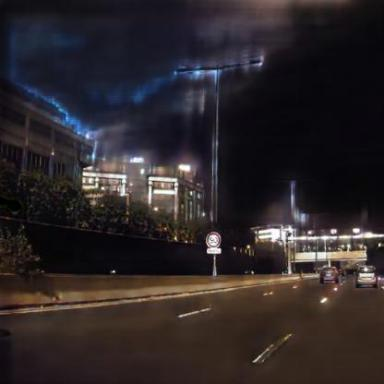Speed_limit_90: (207, 234, 220, 249)
